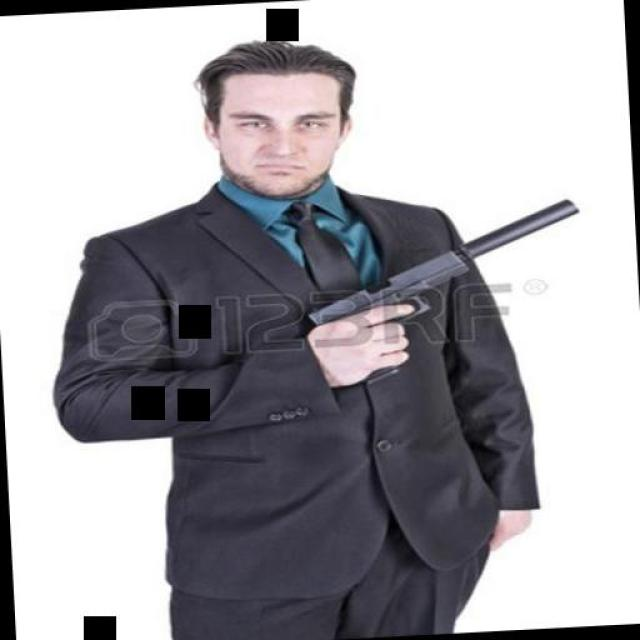gun: (301, 244, 474, 388)
